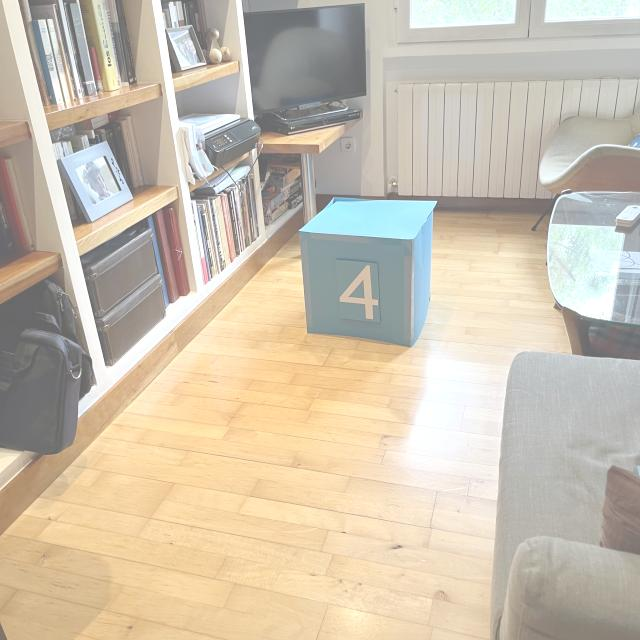box: (294, 192, 440, 350)
